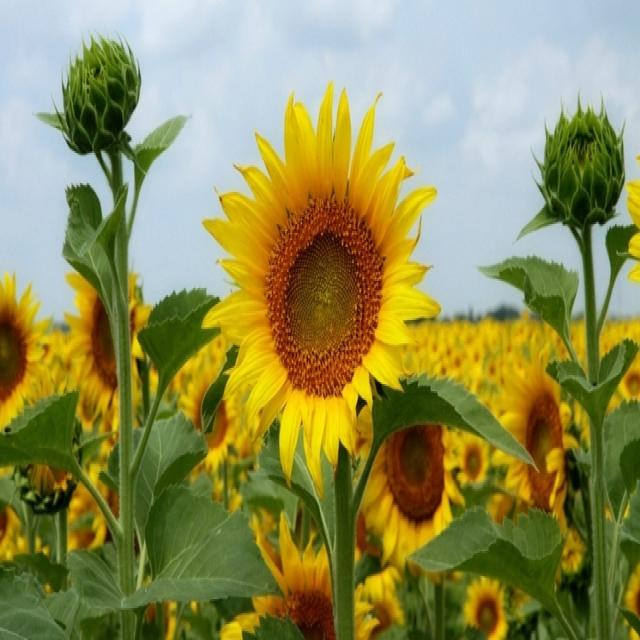sunflower: (203, 74, 430, 474), (489, 322, 585, 562), (351, 370, 465, 562), (55, 253, 149, 428), (226, 510, 352, 640), (465, 576, 513, 640), (460, 431, 489, 490)
